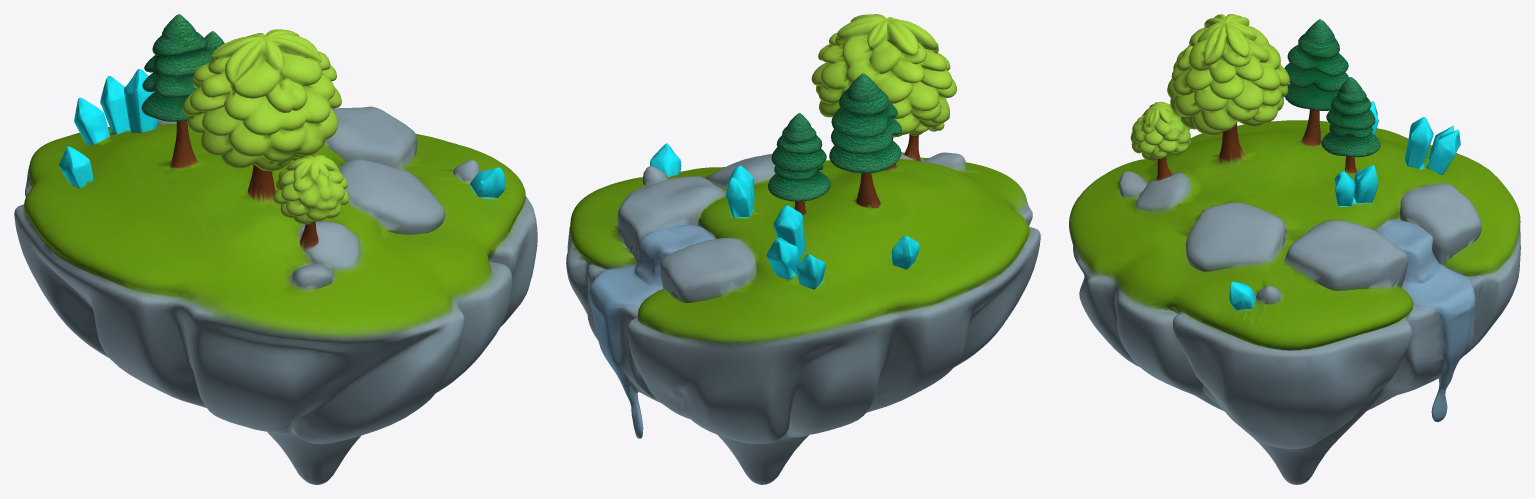
Rendered from float_isle.glb.
3 views of the same model, side by side, from view 1: azimuth 30°, elevation 25°; view 2: azimuth 150°, elevation 25°; view 3: azimuth 270°, elevation 25° (orthographic). The views are drawn at different scales.
Visible parts, largest first — view 1: tripo_node_e292c11f-4367-4695-af5b-92c8297f3b45; view 2: tripo_node_e292c11f-4367-4695-af5b-92c8297f3b45; view 3: tripo_node_e292c11f-4367-4695-af5b-92c8297f3b45.
Boxes of the visible parts, x1,y1,x2,y2 form: tripo_node_e292c11f-4367-4695-af5b-92c8297f3b45: [14, 14, 537, 484]; tripo_node_e292c11f-4367-4695-af5b-92c8297f3b45: [566, 14, 1040, 484]; tripo_node_e292c11f-4367-4695-af5b-92c8297f3b45: [1069, 14, 1520, 484].
Bounding box in the file's own units: 9.67 × 10 × 9.68.
1 material, 1 textured.
